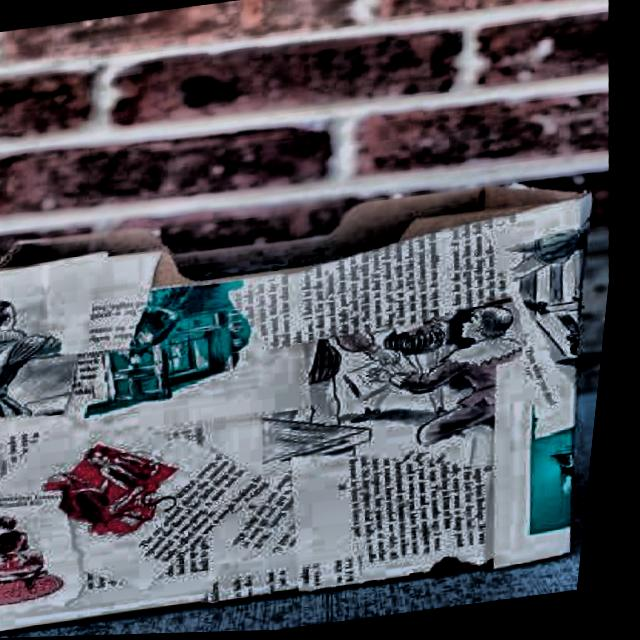Cardbox: (0, 153, 626, 640)
